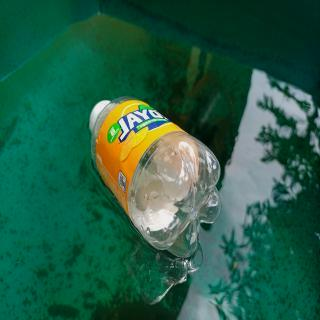bottle: (90, 94, 220, 258)
